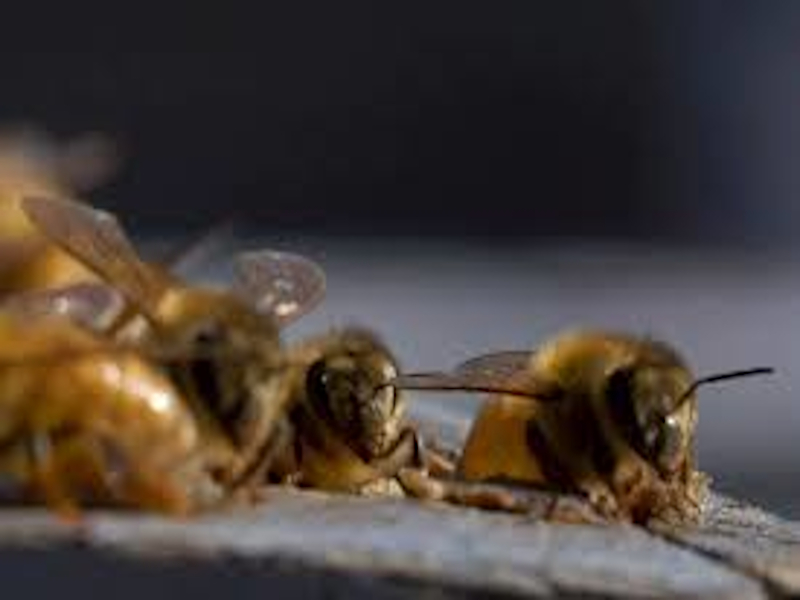abeja: (432, 313, 770, 552), (51, 225, 317, 500), (235, 304, 480, 508)
